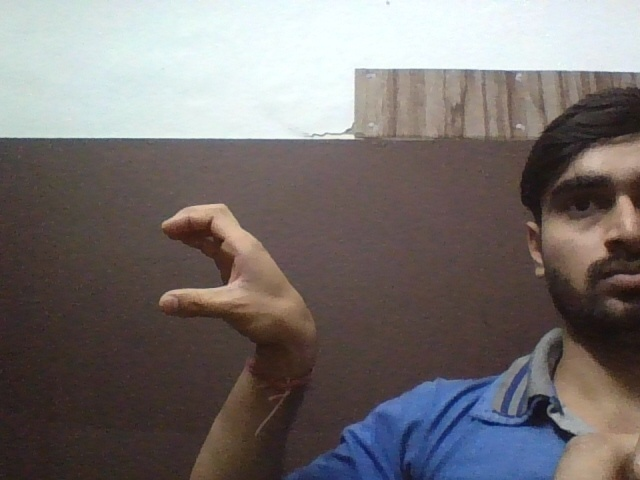C: (145, 193, 309, 365)
